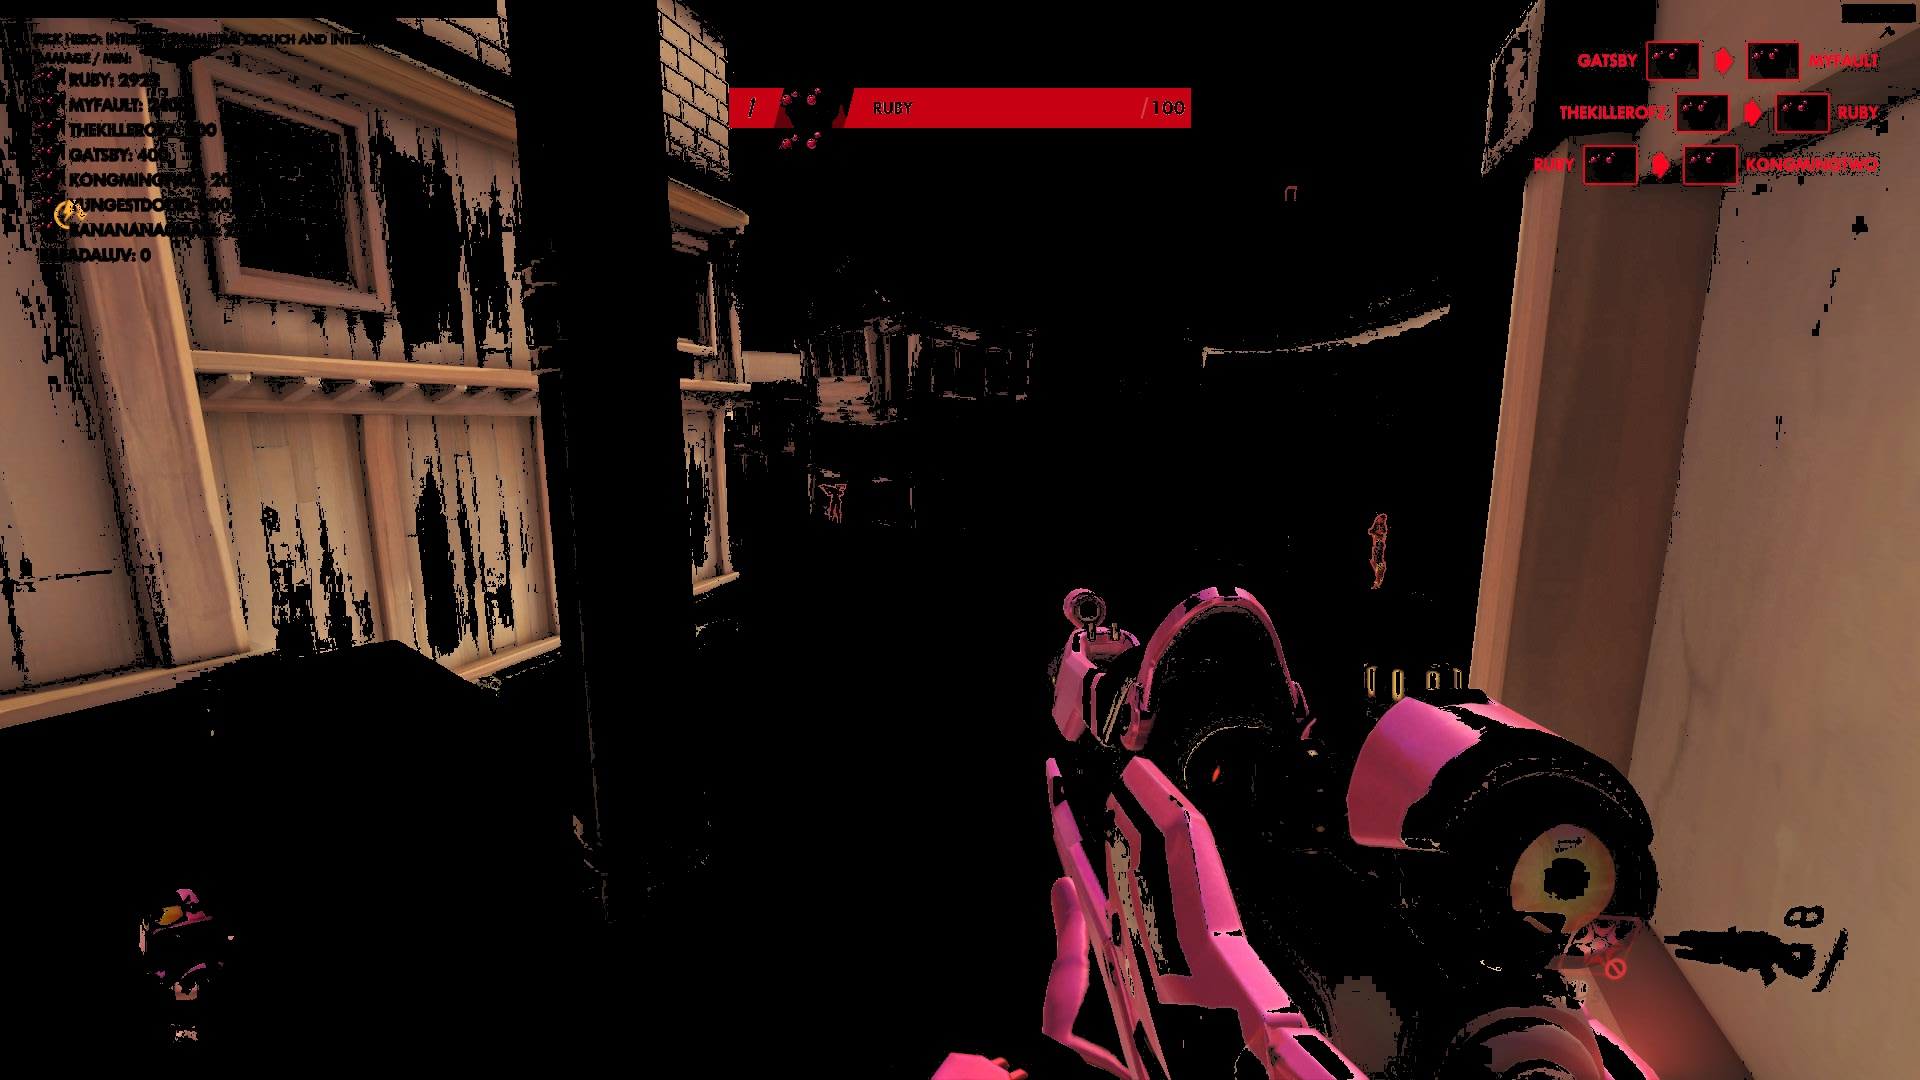widowmaker: (1360, 508, 1396, 597), (814, 481, 847, 525)
